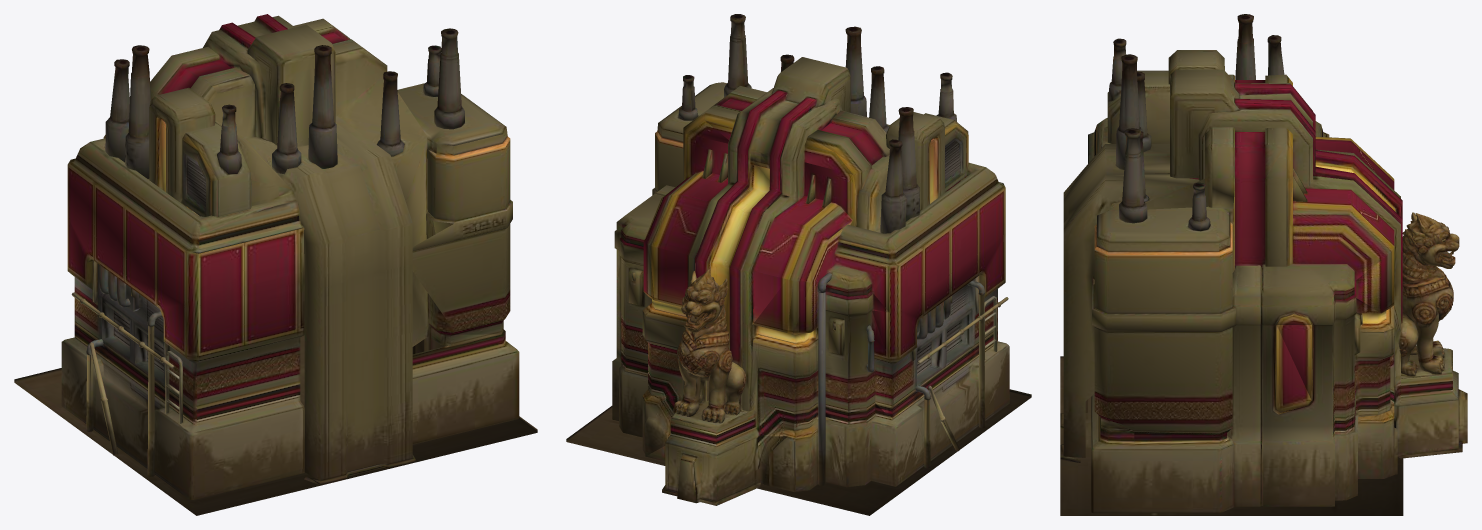
The model's file is slag_refinery.glb.
The picture shows the model from 3 angles, left to right: view 1: azimuth 30°, elevation 25°; view 2: azimuth 150°, elevation 25°; view 3: azimuth 270°, elevation 25°; orthographic projection. The views are drawn at different scales.
Parts seen in each view (by area): view 1: Body, Trim; view 2: Body, Trim; view 3: Body, Trim.
Boxes of the visible parts, x1=… form: Body: x1=14, y1=14, x2=537, y2=515; Trim: x1=102, y1=116, x2=504, y2=389; Body: x1=566, y1=14, x2=1031, y2=515; Trim: x1=643, y1=112, x2=973, y2=461; Body: x1=1060, y1=14, x2=1467, y2=515; Trim: x1=1094, y1=75, x2=1459, y2=422.
Bounding box in the file's own units: 13.94 × 15.59 × 15.28.
2 materials, 2 textured.
